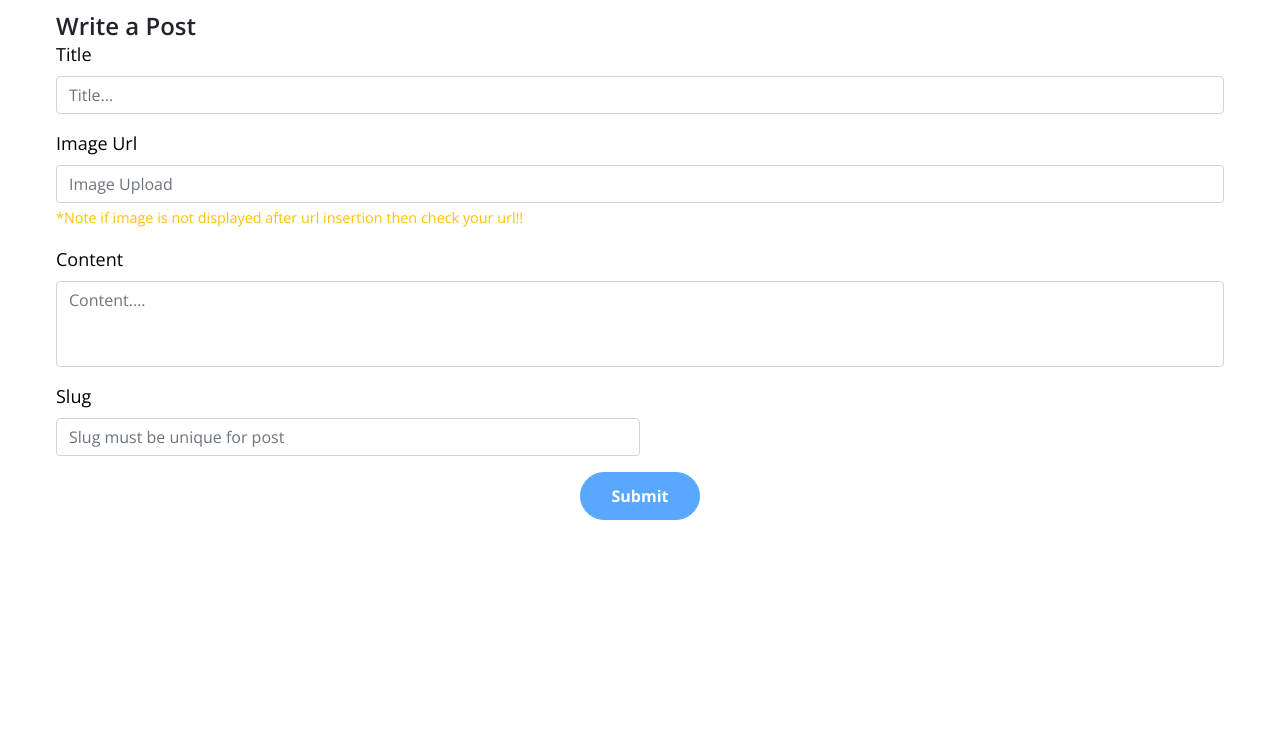
it: Unit tests for CreatePost component › Validations Checking on slug
The image size is (1280, 732).
Step 1. Type "abcd" into the field with test id "inputslug" → (348, 437), box [56, 418, 640, 456]
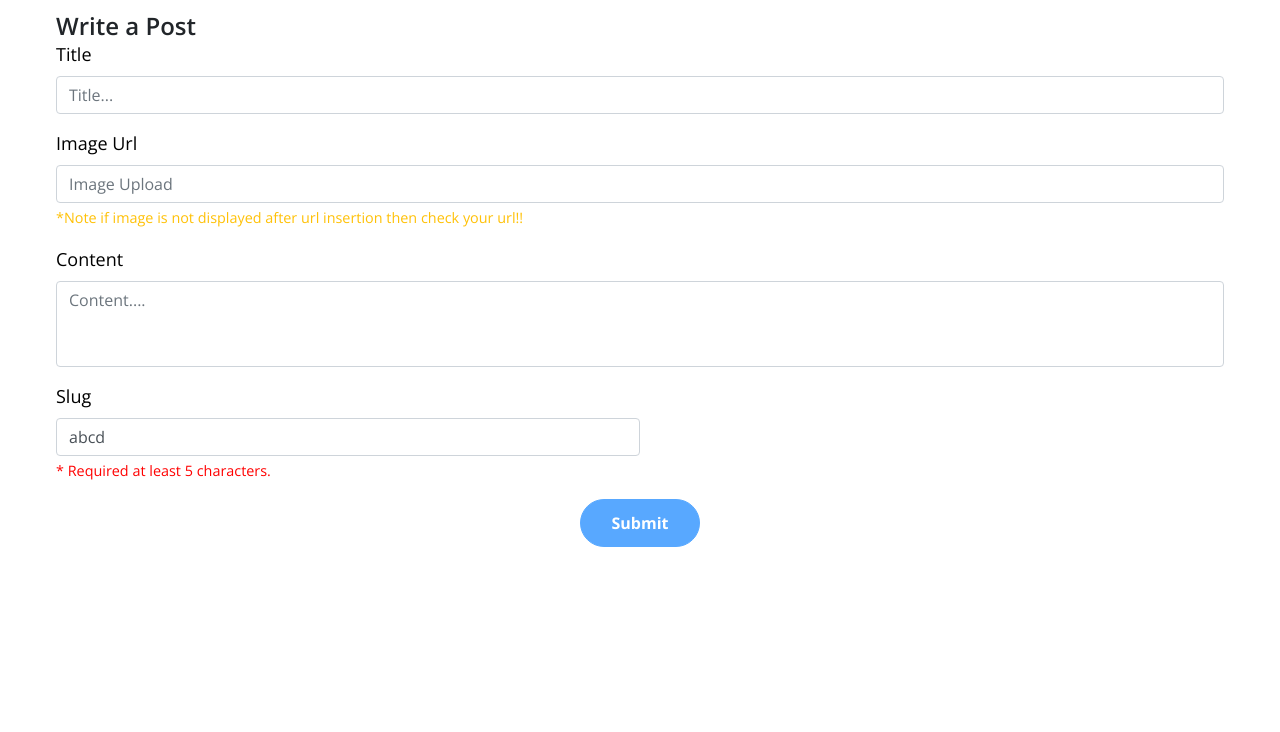
Expected: the text "* Required at least 5 characters." is shown, [56, 461, 271, 480]
Step 2. Replace the text in the field with test id "inputslug" with "abcde" → (348, 437), box [56, 418, 640, 456]
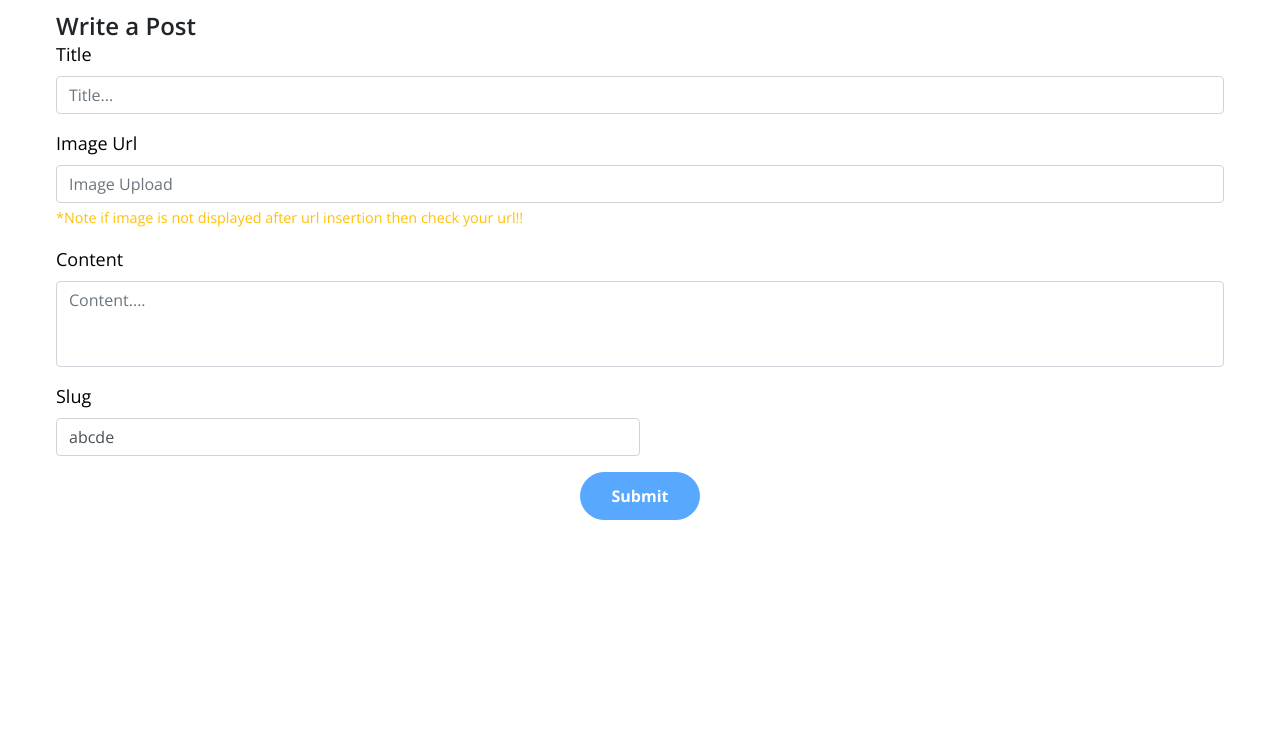
Expected: the text with test id "errorSlug" is gone
